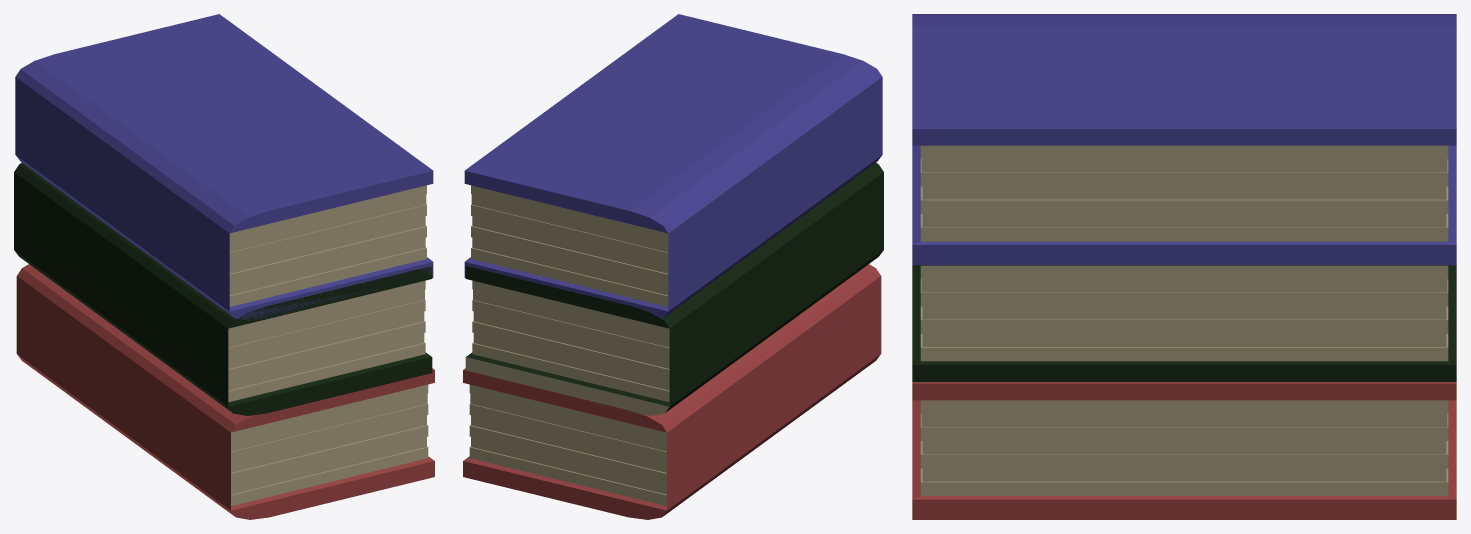
File: booksOrdered.fbx
3 views of the same model, side by side, from view 1: azimuth 30°, elevation 25°; view 2: azimuth 150°, elevation 25°; view 3: azimuth 270°, elevation 25° (orthographic). The views are drawn at different scales.
Parts seen in each view (by area): view 1: Cube; view 2: Cube; view 3: Cube.
Boxes of the visible parts, left/top/right/bottom form: Cube: left=14, top=14, right=434, bottom=519; Cube: left=463, top=14, right=883, bottom=519; Cube: left=912, top=14, right=1456, bottom=519.
Bounding box in the file's own units: 111 × 158 × 200.
